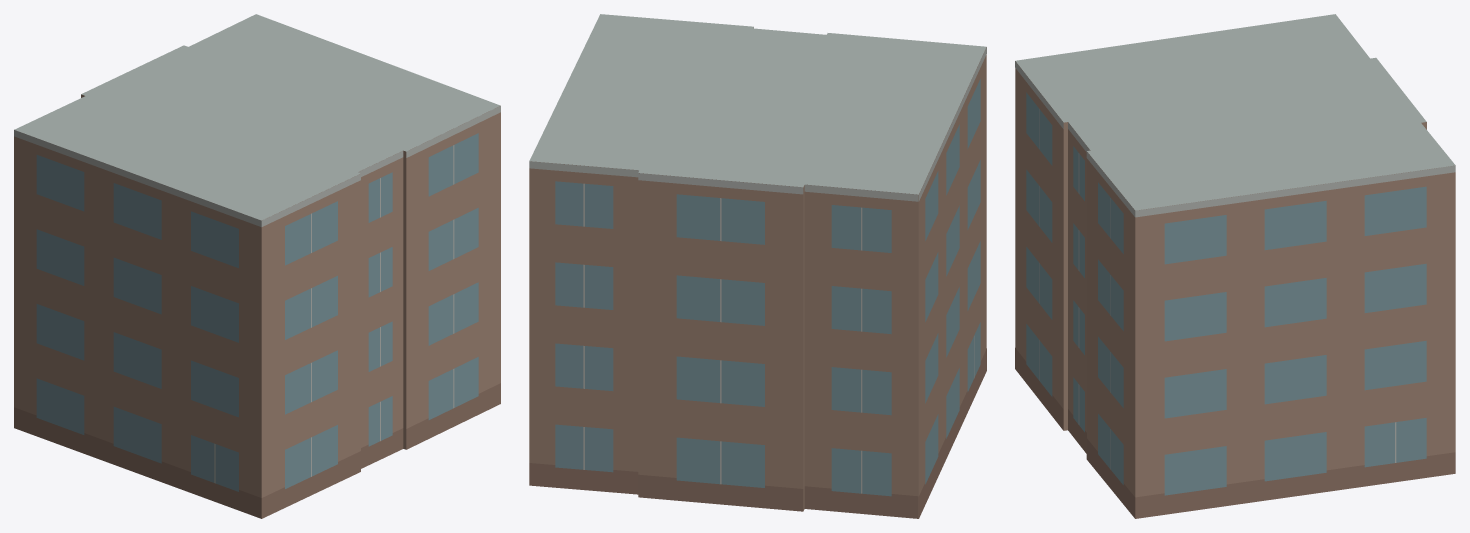
File: survey-upis-33001768.glb
The picture shows the model from 3 angles, left to right: view 1: azimuth 30°, elevation 25°; view 2: azimuth 150°, elevation 25°; view 3: azimuth 270°, elevation 25°; orthographic projection. The views are drawn at different scales.
Parts seen in each view (by area): view 1: survey-upis-33001768.tmp; view 2: survey-upis-33001768.tmp; view 3: survey-upis-33001768.tmp.
Boxes of the visible parts, bbox=[...] form: survey-upis-33001768.tmp: bbox=[14, 14, 500, 518]; survey-upis-33001768.tmp: bbox=[529, 14, 986, 518]; survey-upis-33001768.tmp: bbox=[1015, 14, 1455, 518].
Bounding box in the file's own units: 15.06 × 11 × 14.26.
